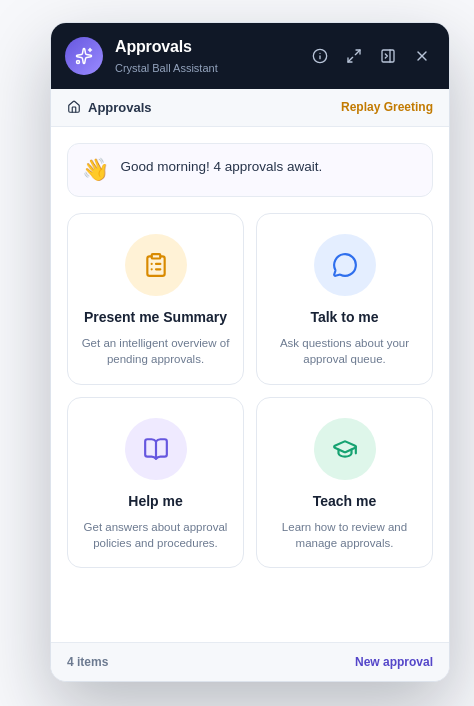
Test: AssistantPanel › Present me Summary › goes back to the action cards
The width and height of the screenshot is (474, 706).
Click the button "Present me Summary" at [156, 299], box left=67, top=213, right=244, bottom=385
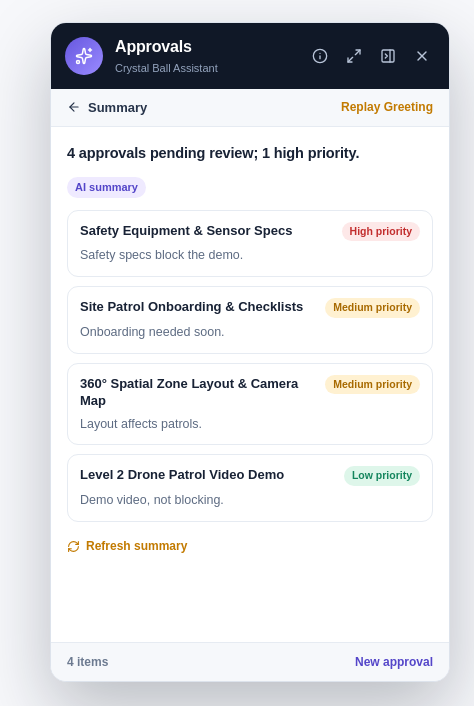
Expected: the text "4 approvals pending review; 1 high priority." is shown, left=67, top=145, right=359, bottom=161
Click the button with aria-label "back" at [107, 107], box left=67, top=98, right=147, bottom=117
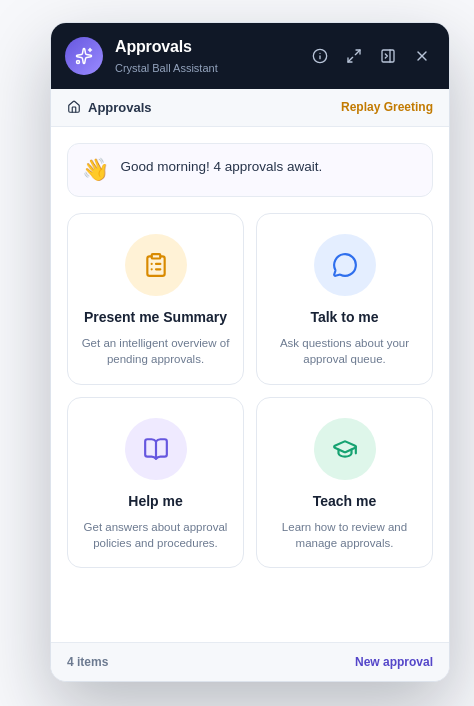
Expected: the button "Talk to me Ask questions about your approval queue." is shown, left=256, top=213, right=433, bottom=385
